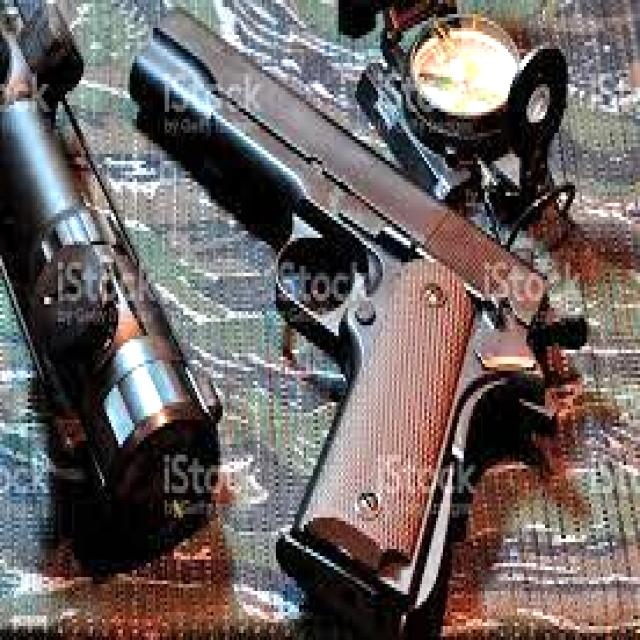semi automatic: (121, 0, 597, 637)
